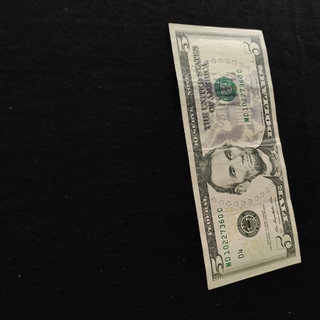5USDFront: (167, 21, 302, 291)
